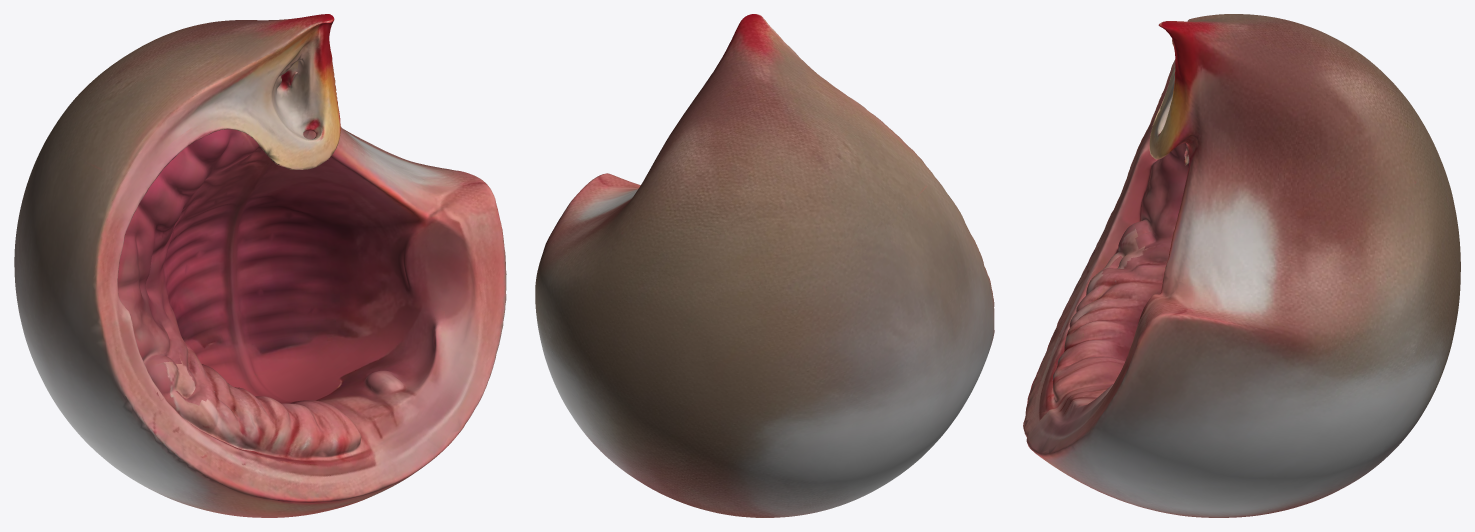
The model's file is vet_v2_organ_cow_abomasum.glb.
3 views of the same model, side by side, from view 1: azimuth 30°, elevation 25°; view 2: azimuth 150°, elevation 25°; view 3: azimuth 270°, elevation 25° (orthographic). The views are drawn at different scales.
Visible parts, largest first — view 1: model; view 2: model; view 3: model.
Boxes of the visible parts, box(x1,y1,x2,y2) form: model: box(14, 14, 506, 517); model: box(535, 14, 994, 517); model: box(1023, 14, 1460, 517).
Bounding box in the file's own units: 1.74 × 1.9 × 1.54.
Materials: 1 (1 with a texture image).
